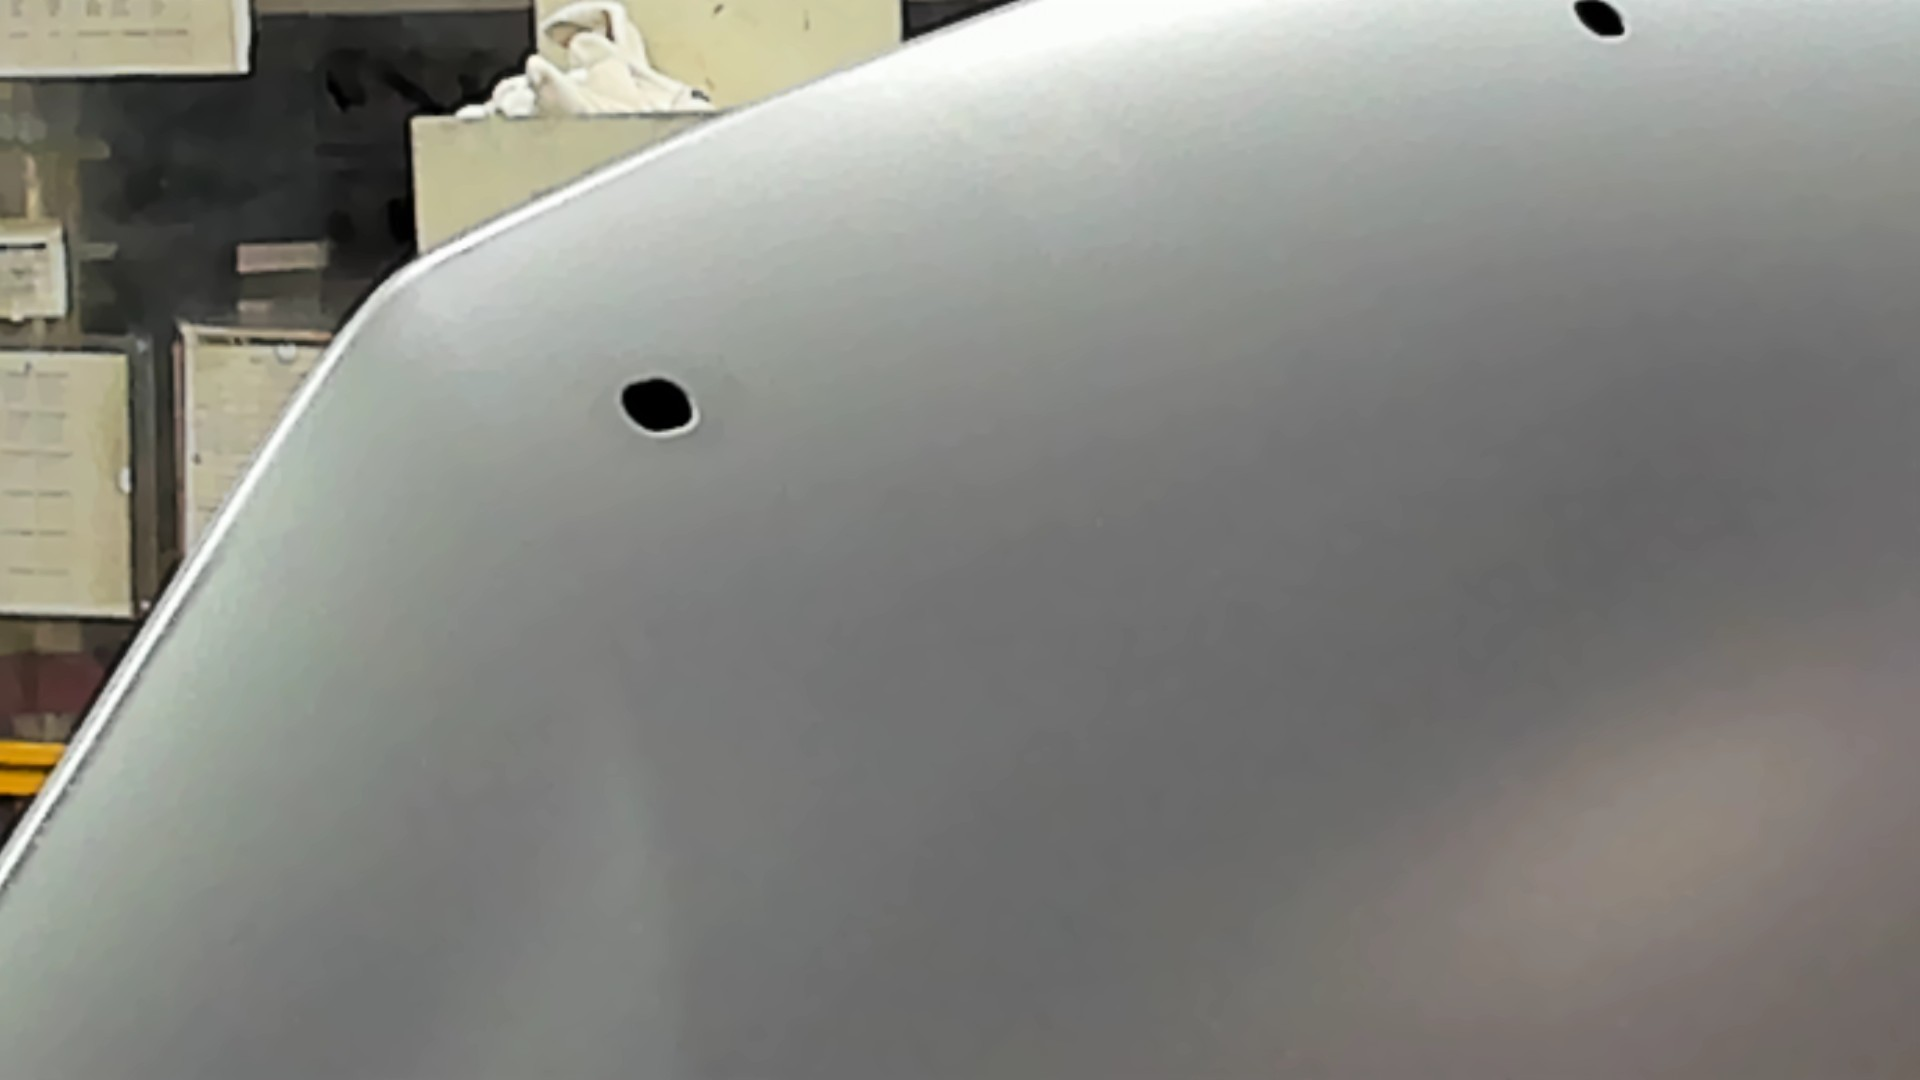amorfo: (609, 369, 700, 442), (1563, 1, 1634, 46)
